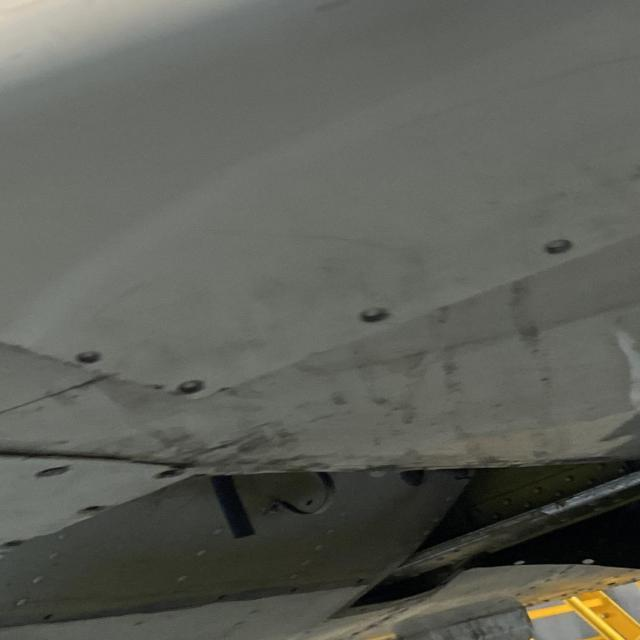Missing-head: (357, 307, 390, 324), (173, 379, 204, 396), (33, 465, 69, 479), (74, 351, 100, 365), (153, 469, 180, 480), (81, 505, 106, 515)
